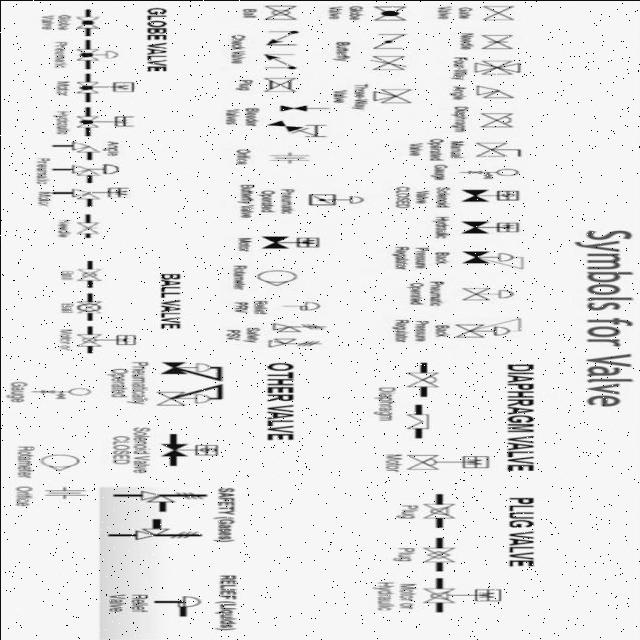3 Way Gate Valve: (371, 82, 416, 107)
4 Way Gate Valve: (472, 56, 526, 78)
Angle Valve: (476, 76, 534, 100), (62, 142, 105, 154)
BackPressure Regulator: (446, 314, 524, 348), (154, 384, 228, 410)
Ball Valve: (77, 256, 106, 288), (76, 290, 106, 316), (262, 4, 302, 22)
Bleeder Valve: (266, 115, 335, 141), (279, 100, 331, 112)
Butterfly Valve: (368, 52, 412, 76), (372, 30, 414, 48)
Check Valve: (266, 46, 304, 74), (260, 24, 306, 46)
Cock Valve: (474, 135, 530, 163)
Diaphragm Valve: (402, 408, 436, 444), (398, 368, 447, 392), (479, 106, 522, 132)
Gate Valve: (478, 2, 520, 22)
Gauge: (34, 376, 90, 410), (464, 162, 526, 184)
Globe Valve: (368, 0, 420, 26), (80, 10, 110, 35)
Hydraulic Closed Valve: (454, 201, 532, 238)
Hydraulic Operated Globe Valve: (75, 112, 136, 134)
Motor Operated Angle Valve: (61, 184, 136, 207)
Motor Operated Diaphragm Valve: (403, 450, 492, 480)
Motor Operated Globe Valve: (73, 326, 143, 358), (73, 78, 138, 98)
Motor Operated Plug Valve: (428, 574, 516, 609)
Motor closed Gate Valve: (268, 227, 334, 255)
Needle Valve: (480, 27, 520, 52), (75, 216, 102, 242)
Orifice: (43, 478, 88, 513), (265, 148, 323, 170)
PRV: (146, 586, 198, 626), (284, 294, 322, 314)
PSV: (104, 514, 208, 558), (252, 337, 322, 361), (108, 489, 212, 505), (269, 319, 323, 337)
Plug Valve: (255, 70, 308, 92), (422, 499, 467, 523), (426, 540, 464, 566)
Pneumatic-Diaphragm Angle Valve: (59, 161, 124, 179)
Pneumatic-Diaphragm Butterfly Valve: (302, 192, 374, 210)
Pneumatic-Diaphragm Gate Valve: (462, 276, 518, 306)
Pneumatic-Diaphragm Globe Valve: (70, 41, 122, 66)
Pressure Regulator: (156, 347, 230, 381), (452, 249, 530, 277)
Rotameter: (252, 267, 300, 289), (38, 452, 86, 473)
Solenoid Closed Valve: (152, 434, 225, 456), (460, 182, 532, 204)
